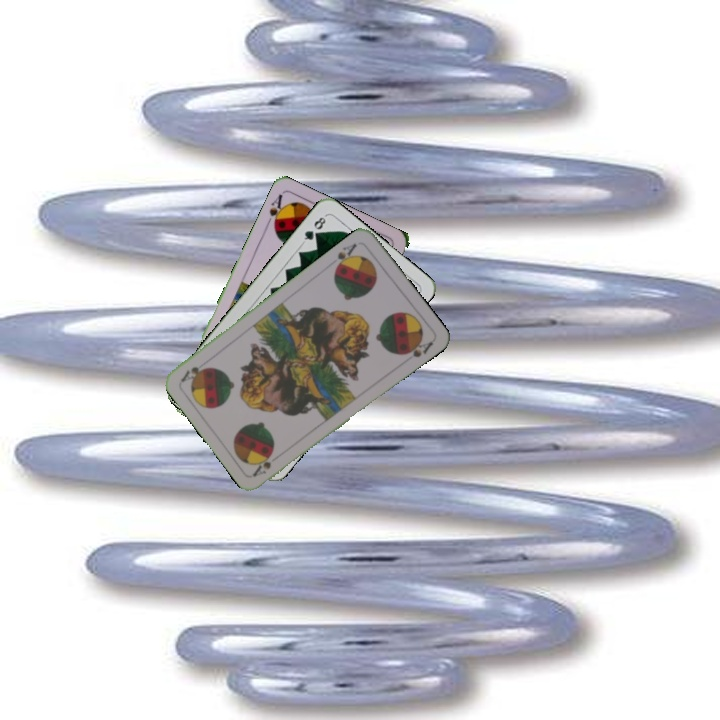G8: (299, 211, 329, 246)
SA: (262, 190, 288, 231), (249, 449, 284, 479), (331, 239, 359, 273)
